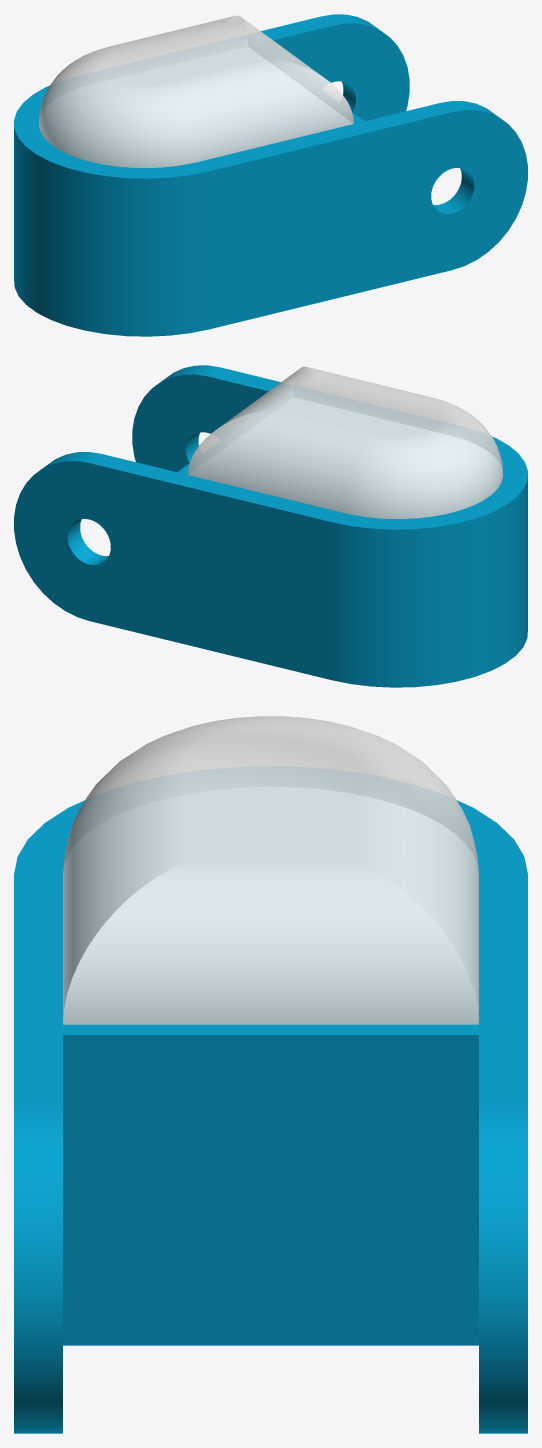
File: DistalPhalang.dae
3 renders of one model, top to bottom at view 1: azimuth 30°, elevation 25°; view 2: azimuth 150°, elevation 25°; view 3: azimuth 270°, elevation 25°, orthographic. The views are drawn at different scales.
Visible parts, largest first — view 1: DistalPhalang, SoftPad; view 2: DistalPhalang, SoftPad; view 3: DistalPhalang, SoftPad.
Part boxes in pixels (x1,y1,x2,y2): DistalPhalang: (14, 14, 527, 336); SoftPad: (38, 15, 353, 167); DistalPhalang: (14, 365, 527, 687); SoftPad: (188, 366, 502, 518); DistalPhalang: (14, 800, 527, 1433); SoftPad: (63, 716, 478, 1024).
Bounding box in the file's own units: 0.0399 × 0.021 × 0.019.
